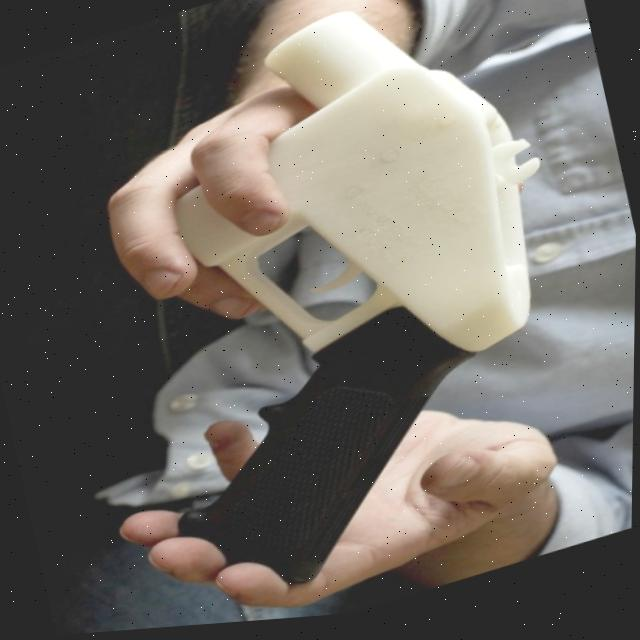pistol: (76, 0, 617, 624)
